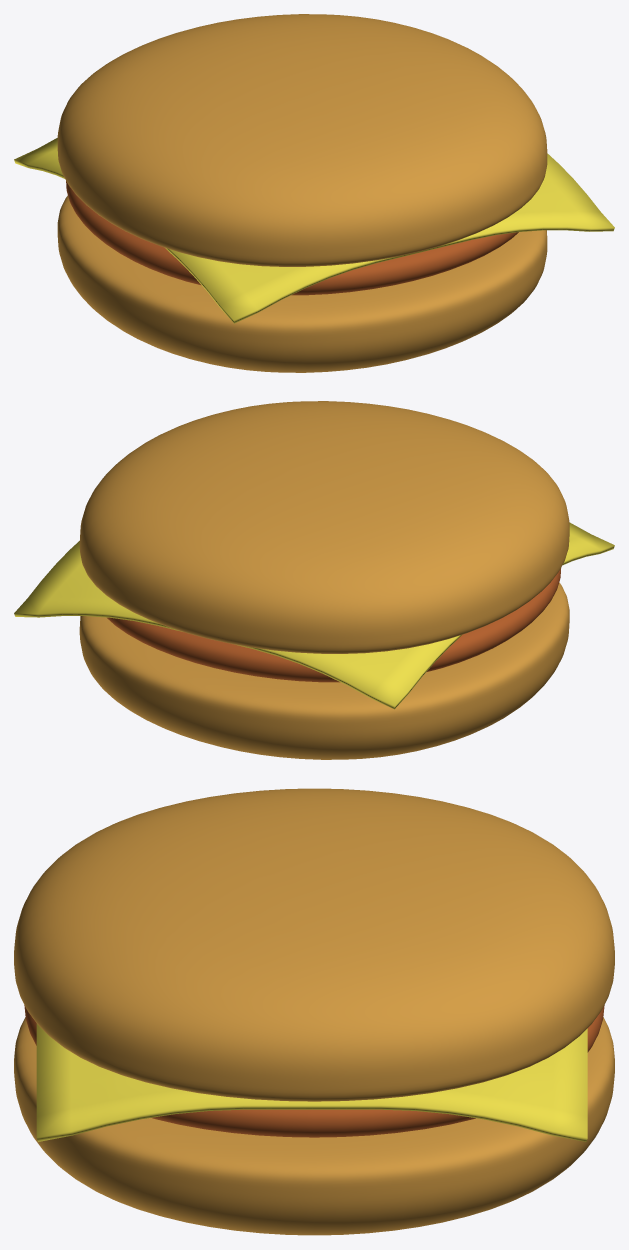
Rendered from hamburger.gltf.
The picture shows the model from 3 angles, top to bottom: view 1: azimuth 30°, elevation 25°; view 2: azimuth 150°, elevation 25°; view 3: azimuth 270°, elevation 25°; orthographic projection. The views are drawn at different scales.
Parts seen in each view (by area): view 1: 立方体.002, 立方体, 平面, 立方体.001; view 2: 立方体.002, 立方体, 平面, 立方体.001; view 3: 立方体.002, 立方体, 平面, 立方体.001.
Boxes of the visible parts, x1,y1,x2,y2 form: 立方体.002: (57,14,547,266); 立方体: (57,195,547,372); 平面: (14,138,614,323); 立方体.001: (66,181,518,295); 立方体.002: (79,401,569,653); 立方体: (79,582,569,759); 平面: (14,522,614,709); 立方体.001: (107,568,560,682); 立方体.002: (14,788,614,1101); 立方体: (14,1017,614,1235); 平面: (36,1024,587,1141); 立方体.001: (24,1005,604,1137).
Bounding box in the file's own units: 3.28 × 1.74 × 3.28.
